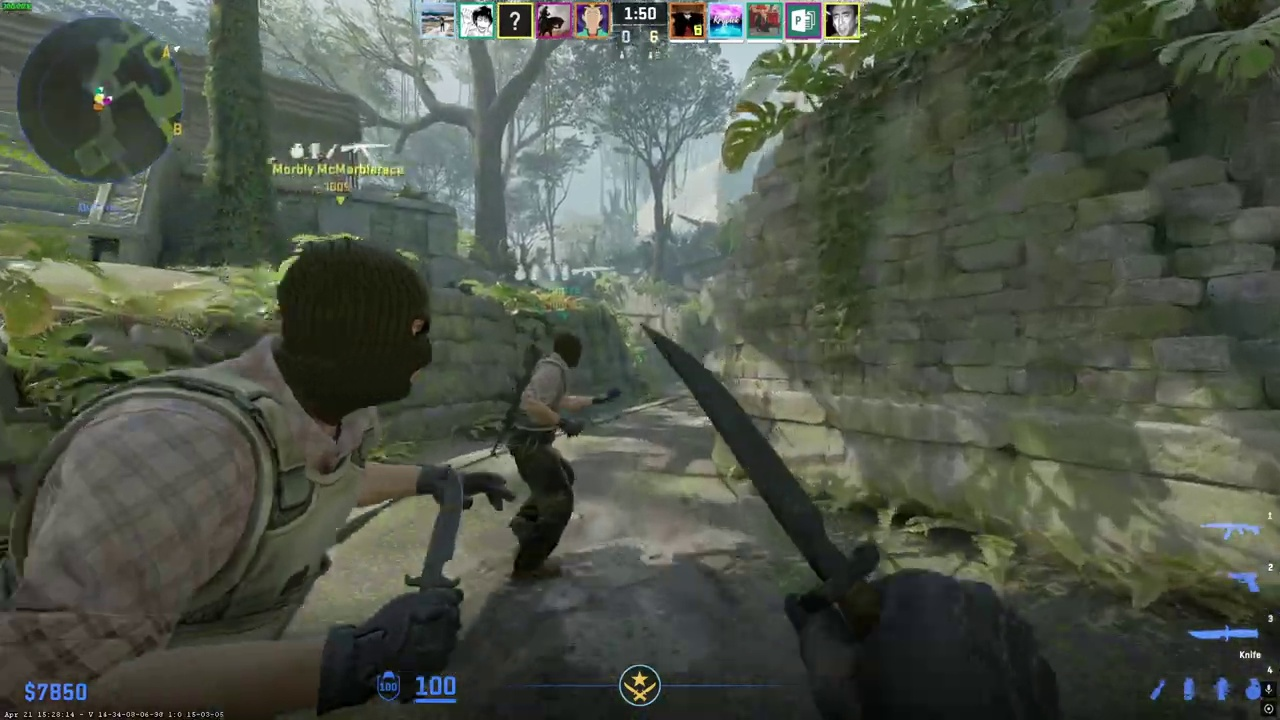Terrorist: (0, 238, 460, 720), (505, 333, 603, 582)
